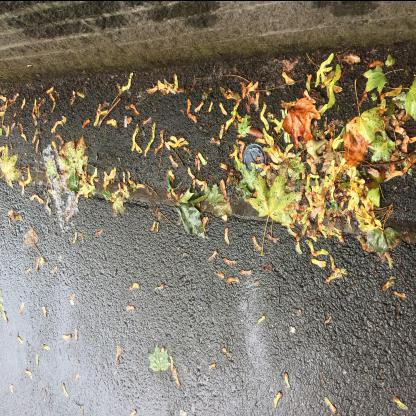plastik: (242, 141, 266, 176)
